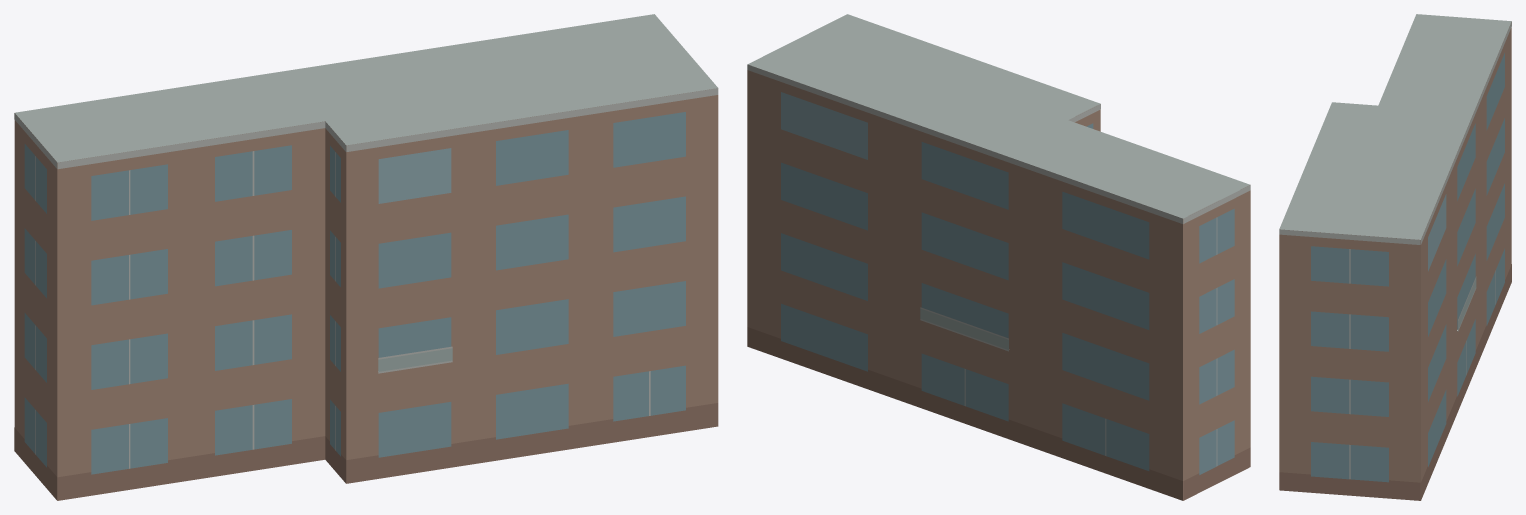
The model's file is residential-2975e0a9-a37e-44f7-bc03-20b64e1fd3f2.glb.
3 views of the same model, side by side, from view 1: azimuth 30°, elevation 25°; view 2: azimuth 150°, elevation 25°; view 3: azimuth 270°, elevation 25° (orthographic). The views are drawn at different scales.
Parts seen in each view (by area): view 1: residential-2975e0a9-a37e-44f7-bc03-20b64e1fd3f2.tmp; view 2: residential-2975e0a9-a37e-44f7-bc03-20b64e1fd3f2.tmp; view 3: residential-2975e0a9-a37e-44f7-bc03-20b64e1fd3f2.tmp.
Boxes of the visible parts, x1=… form: residential-2975e0a9-a37e-44f7-bc03-20b64e1fd3f2.tmp: x1=14, y1=14, x2=718, y2=500; residential-2975e0a9-a37e-44f7-bc03-20b64e1fd3f2.tmp: x1=747, y1=14, x2=1250, y2=500; residential-2975e0a9-a37e-44f7-bc03-20b64e1fd3f2.tmp: x1=1279, y1=14, x2=1511, y2=500.
Bounding box in the file's own units: 22.66 × 12.2 × 9.86.
